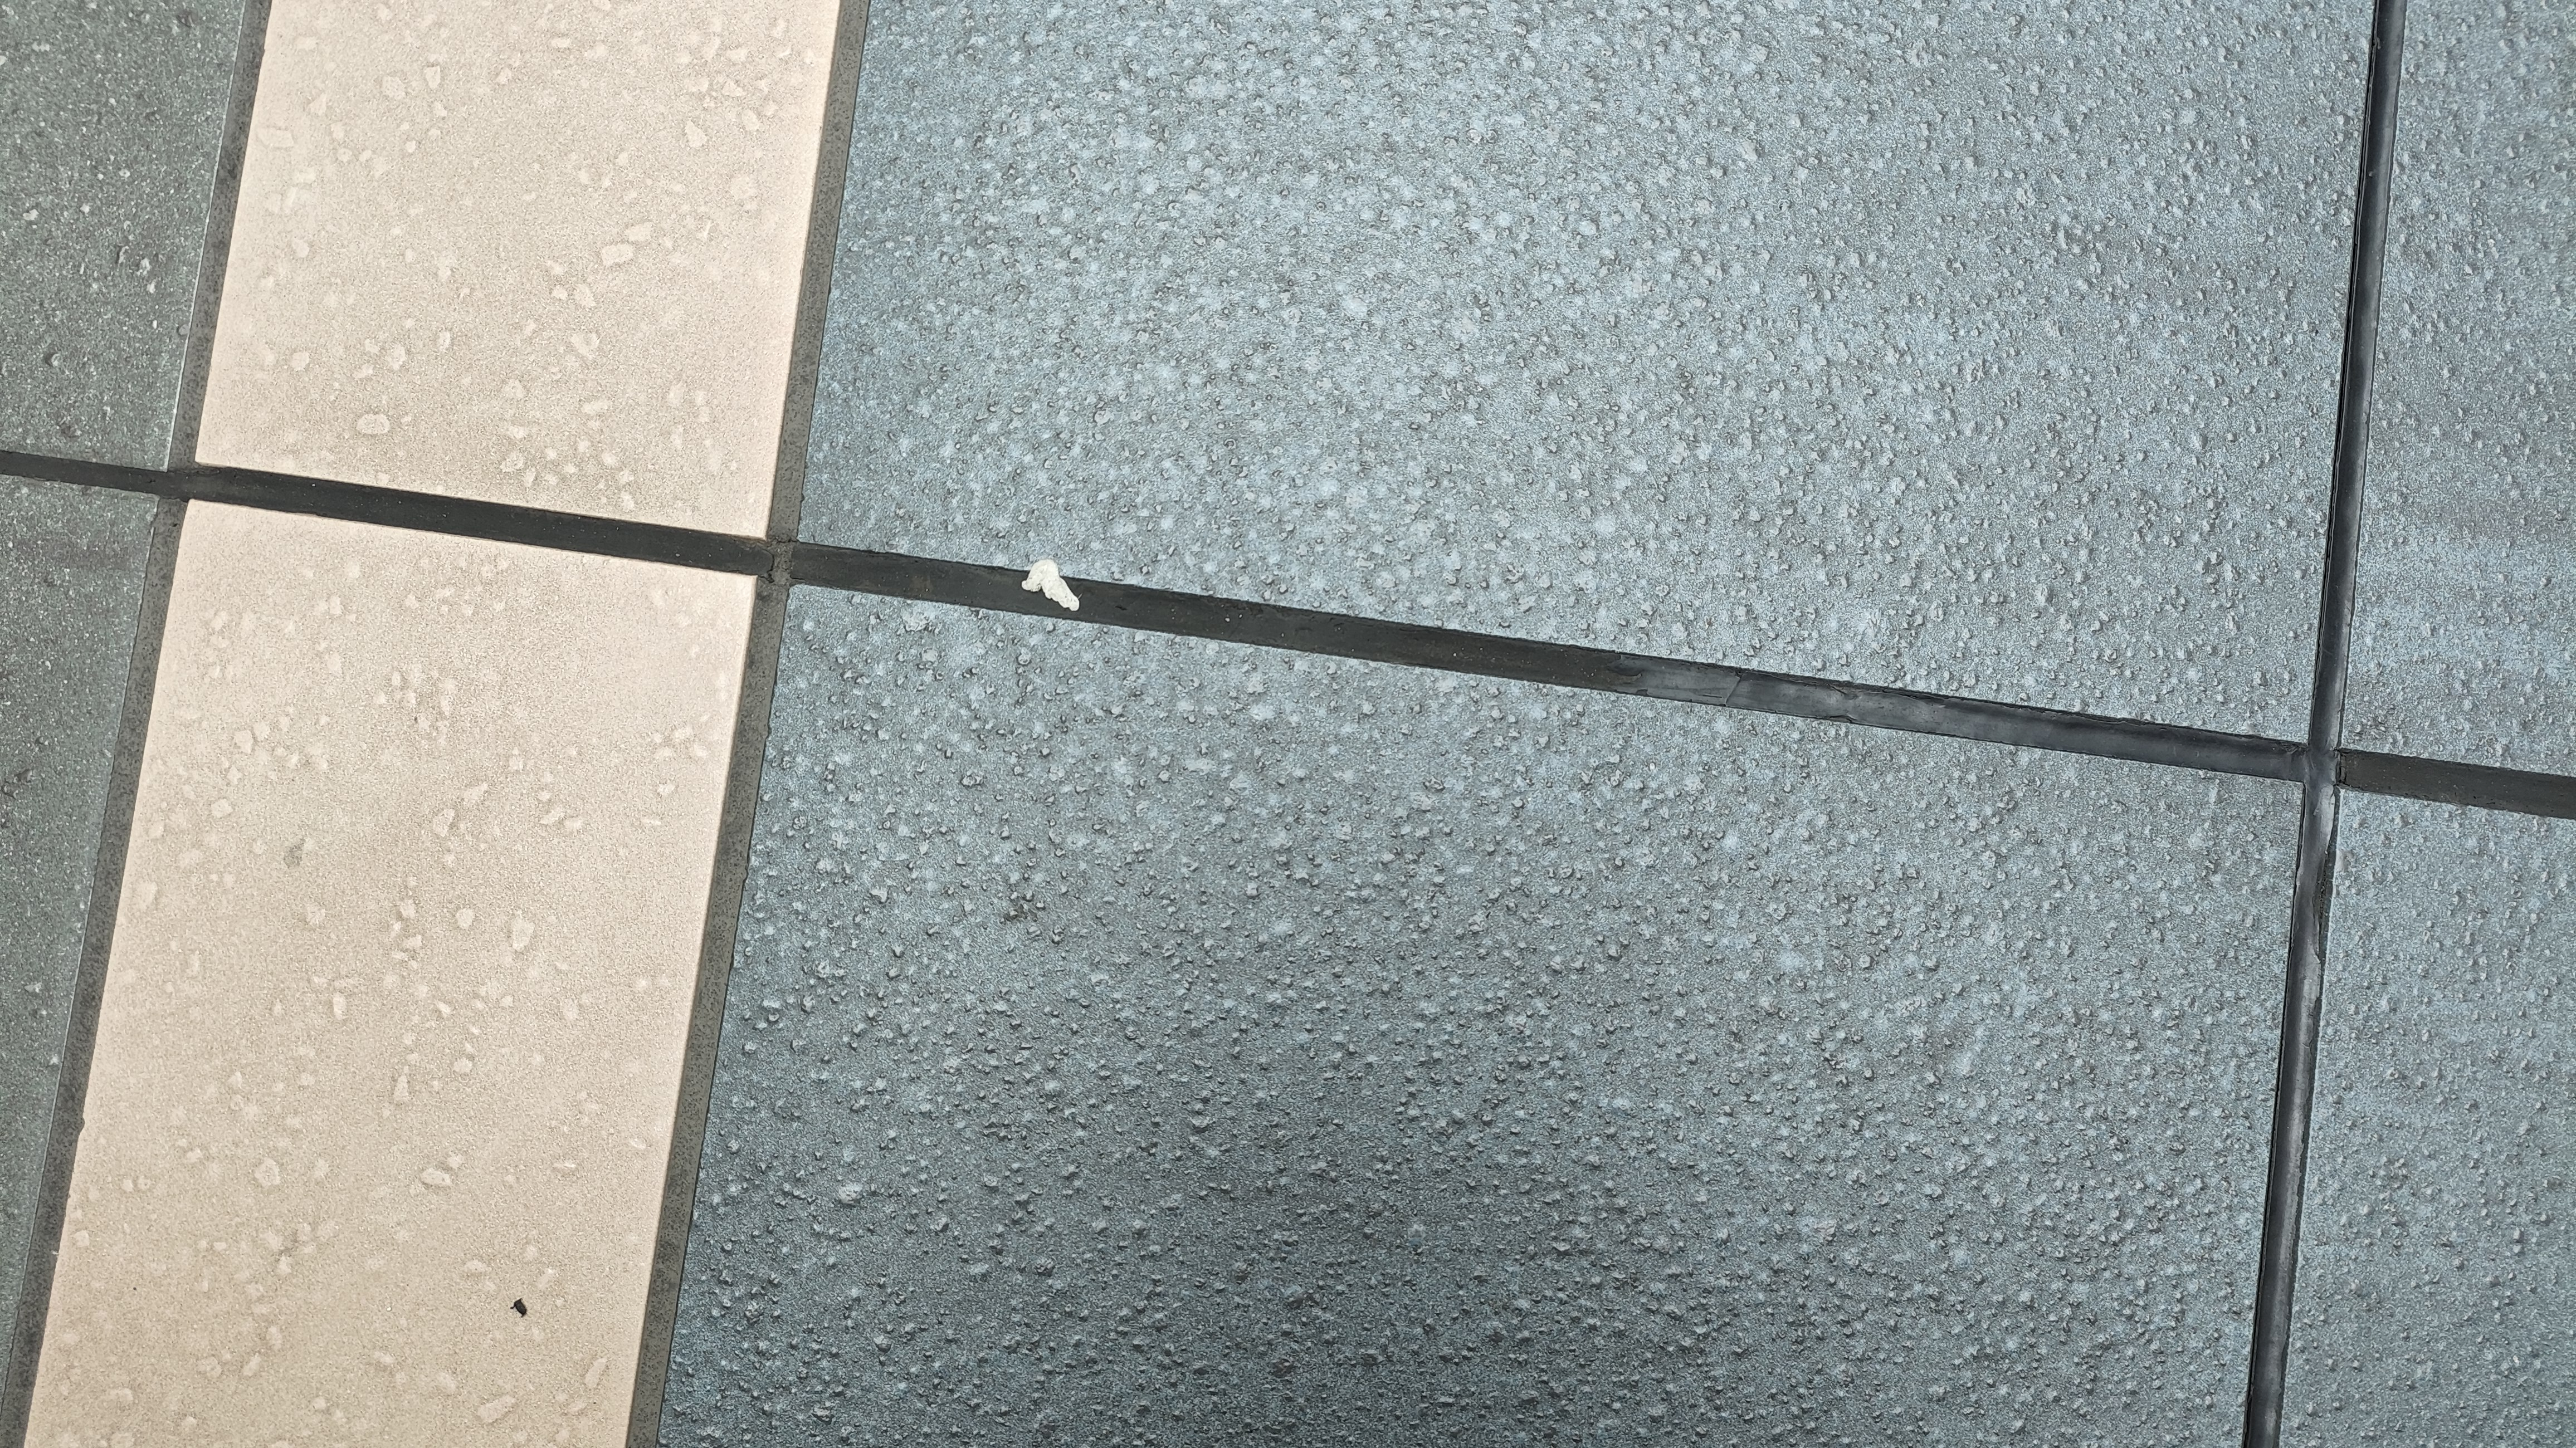Garbage: (1001, 546, 1093, 621)
